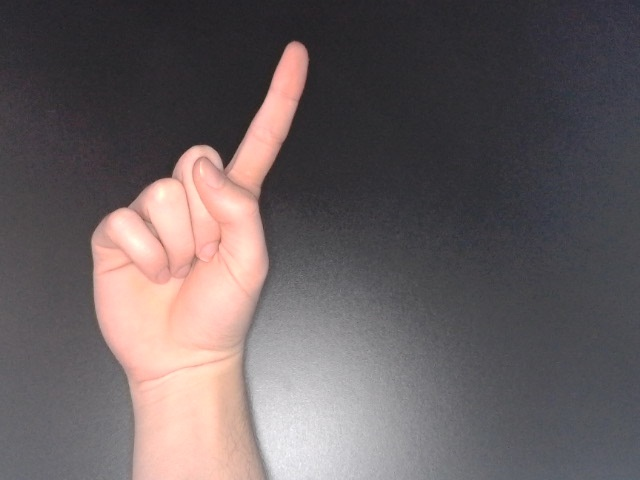z: (83, 36, 311, 395)
